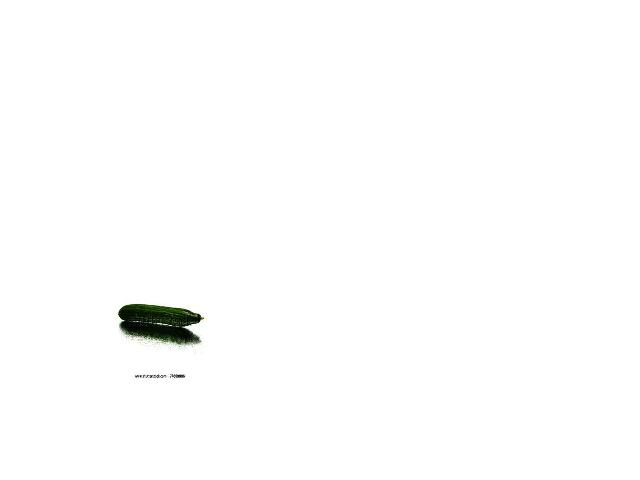cucumber: (119, 304, 204, 327)
